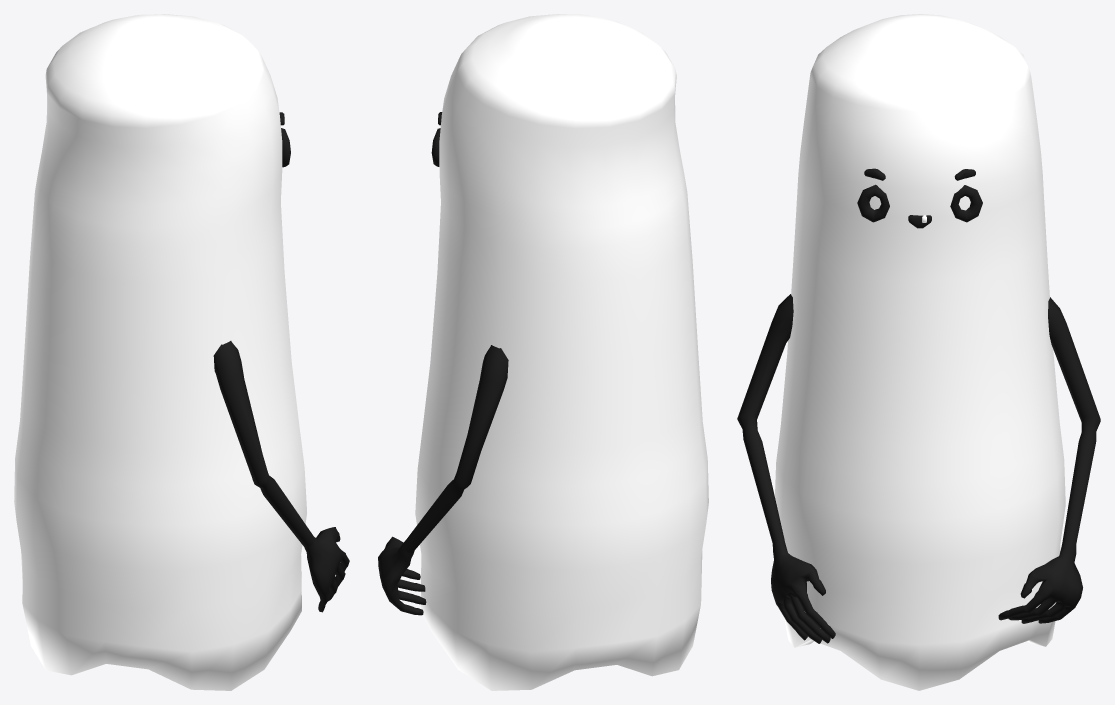
Rendered from Radish.glb.
The picture shows the model from 3 angles, left to right: view 1: azimuth 30°, elevation 25°; view 2: azimuth 150°, elevation 25°; view 3: azimuth 270°, elevation 25°; orthographic projection.
Visible parts, largest first — view 1: Char_034_Ghost; view 2: Char_034_Ghost; view 3: Char_034_Ghost.
Boxes of the visible parts, x1,y1,x2,y2 form: Char_034_Ghost: (14,14,349,690); Char_034_Ghost: (378,14,708,690); Char_034_Ghost: (737,14,1100,690).
Bounding box in the file's own units: 0.5309 × 1.17 × 0.6383.
1 material, 1 textured.
